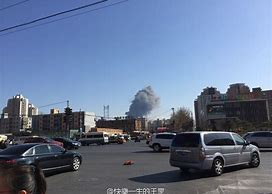smoke: (125, 84, 161, 114)
